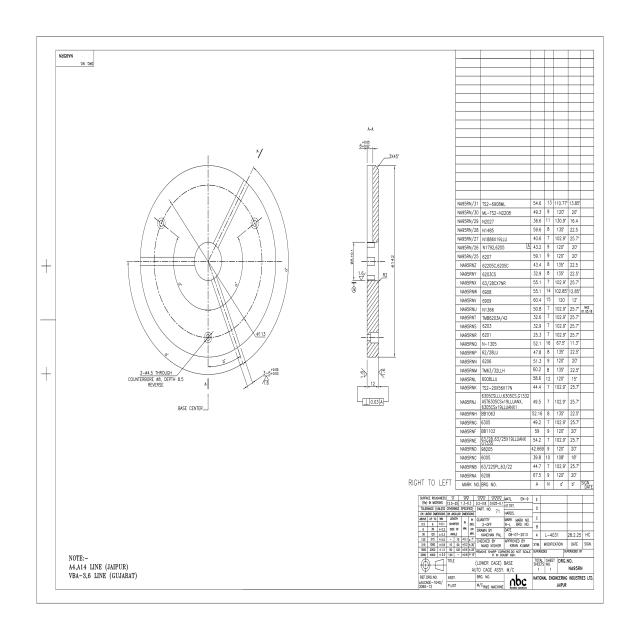dimension: (233, 164, 294, 362), (379, 165, 395, 358), (128, 369, 186, 388), (350, 241, 366, 281), (358, 140, 379, 163), (376, 153, 400, 169), (240, 372, 259, 392), (261, 367, 279, 386), (370, 360, 377, 389), (176, 405, 204, 412), (158, 348, 171, 363), (174, 277, 184, 294), (232, 277, 242, 294), (214, 356, 228, 368), (251, 330, 266, 339), (356, 270, 366, 281), (360, 368, 367, 379), (381, 367, 386, 379), (380, 272, 388, 279)
